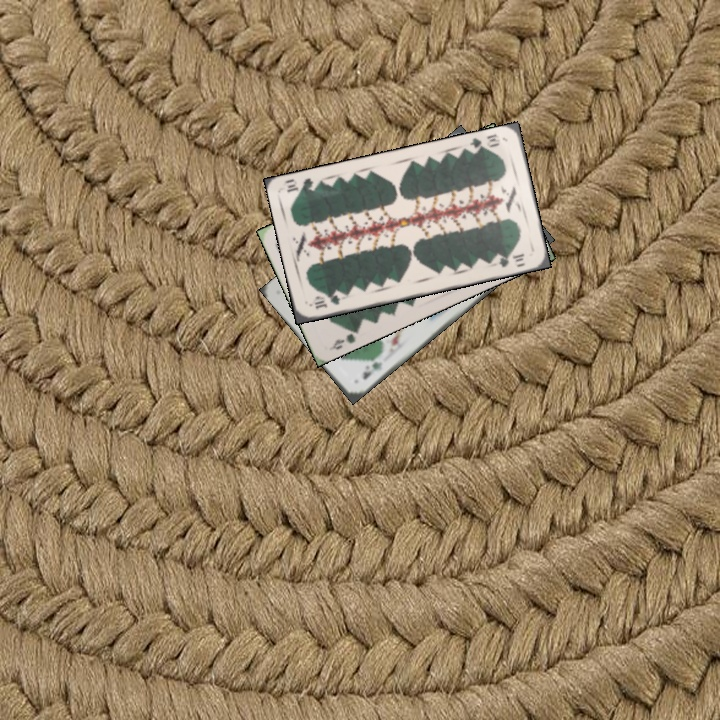G10: (466, 130, 503, 156), (310, 291, 343, 311)
G9: (326, 324, 362, 353)
GK: (358, 357, 385, 382)
